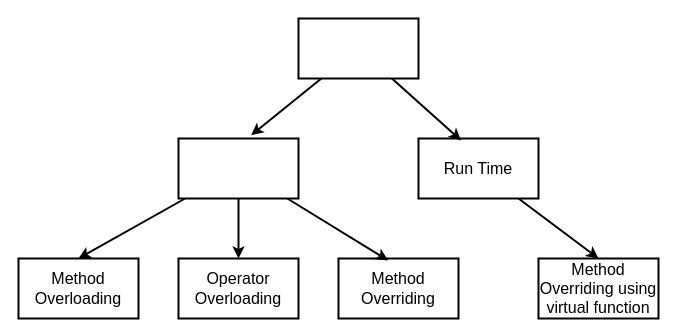
Image size: 676x336. Some labels were removed from this diagram. Each missing label, with the box of its shape:
Compile Time: (177, 137, 299, 199)
Polymorphism: (297, 17, 419, 79)
